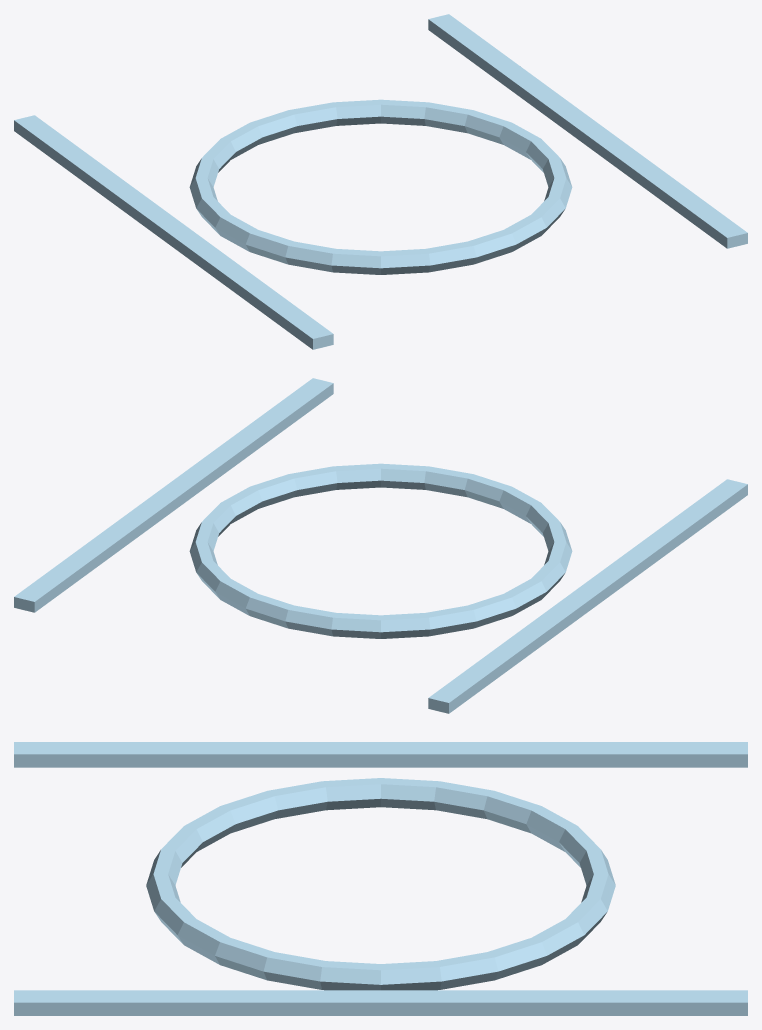
File: SM_Int_Corvette_Bridge_Lights.fbx
The picture shows the model from 3 angles, top to bottom: view 1: azimuth 30°, elevation 25°; view 2: azimuth 150°, elevation 25°; view 3: azimuth 270°, elevation 25°; orthographic projection. The views are drawn at different scales.
Visible parts, largest first — view 1: SM_Int_Corvette_Bridge_Lights; view 2: SM_Int_Corvette_Bridge_Lights; view 3: SM_Int_Corvette_Bridge_Lights.
Part boxes in pixels (x1=…): SM_Int_Corvette_Bridge_Lights: x1=14, y1=14, x2=747, y2=349; SM_Int_Corvette_Bridge_Lights: x1=14, y1=378, x2=747, y2=713; SM_Int_Corvette_Bridge_Lights: x1=14, y1=742, x2=747, y2=1015.
Size of the model in its own units: 168 by 200 by 7.46.
